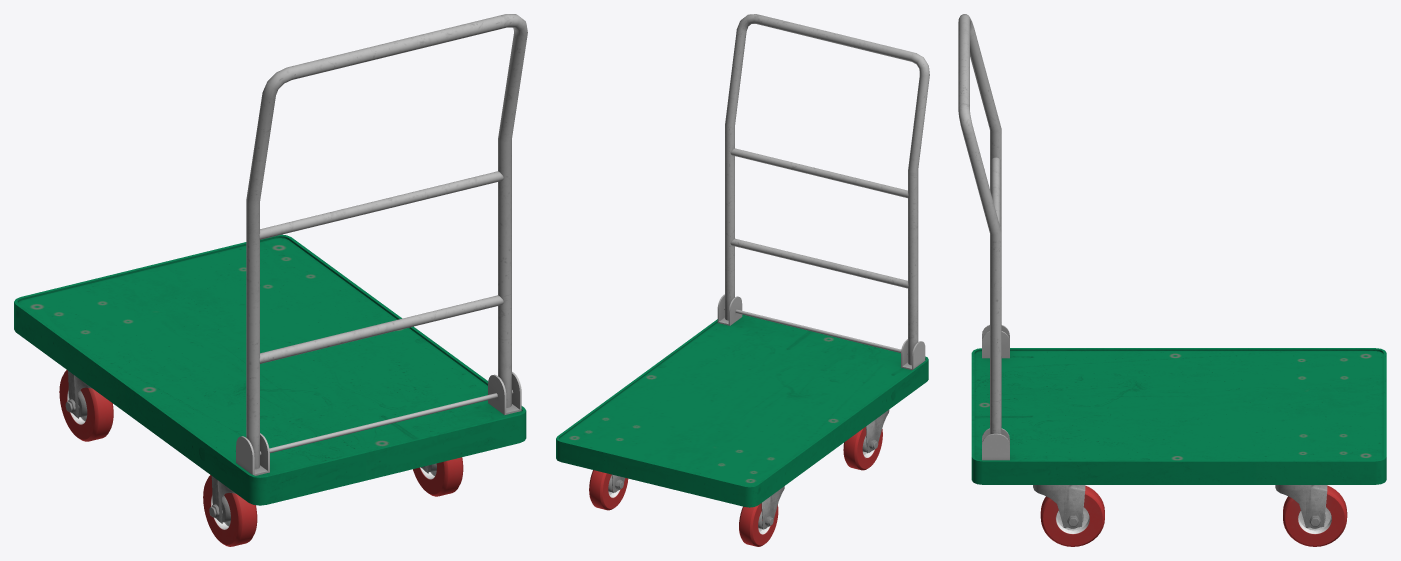
Rendered from FBX_Cart01.fbx.
3 renders of one model, left to right at view 1: azimuth 30°, elevation 25°; view 2: azimuth 150°, elevation 25°; view 3: azimuth 270°, elevation 25°, orthographic. The views are drawn at different scales.
Parts seen in each view (by area): view 1: SM_Cart01; view 2: SM_Cart01; view 3: SM_Cart01.
Part boxes in pixels (bbox=[...]): SM_Cart01: bbox=[14, 14, 527, 546]; SM_Cart01: bbox=[556, 14, 929, 546]; SM_Cart01: bbox=[958, 14, 1386, 546].
Bounding box in the file's own units: 0.55 × 0.9977 × 0.8773.
